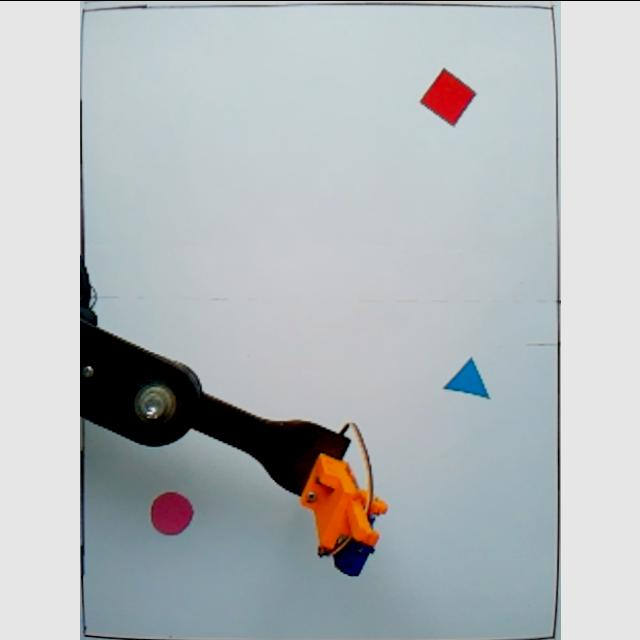blueTriangle: (439, 354, 493, 402)
pinkCircle: (148, 489, 194, 536)
redSquare: (418, 66, 478, 126)
